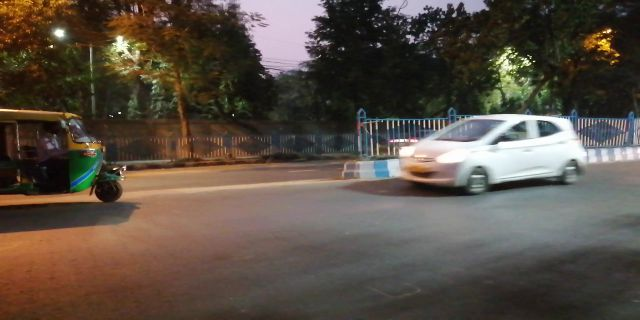Autorickshaw: (8, 104, 121, 199)
Car: (399, 112, 589, 201)
